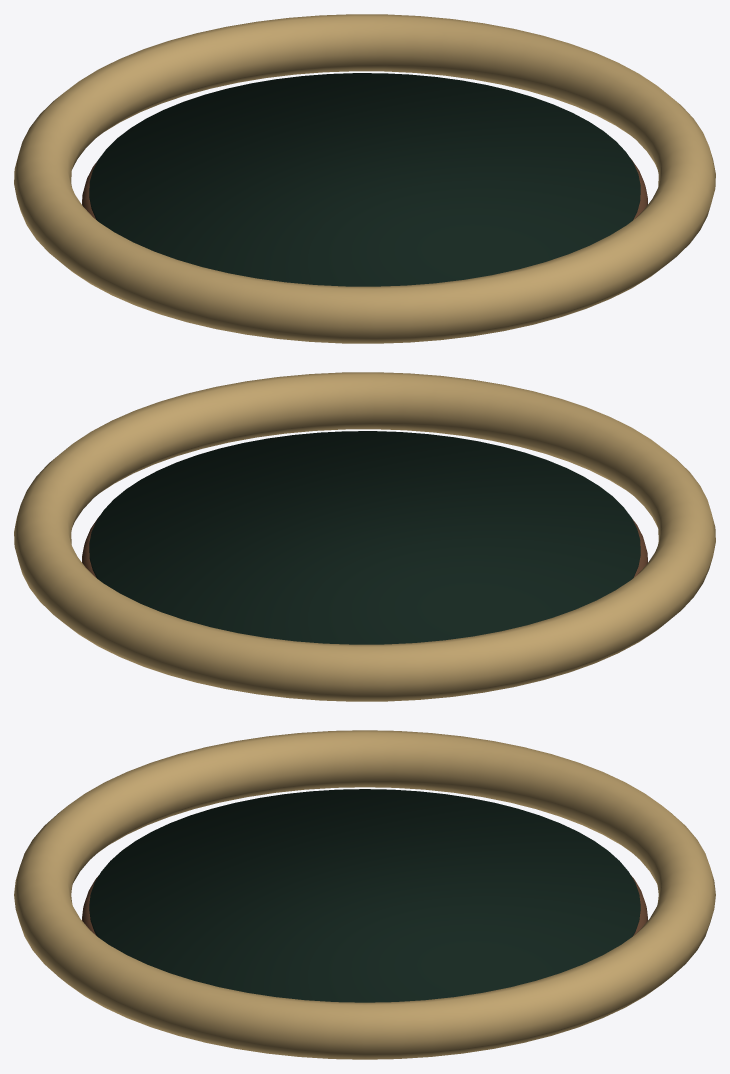
File: PP_Kit_CupRim.fbx
3 renders of one model, top to bottom at view 1: azimuth 30°, elevation 25°; view 2: azimuth 150°, elevation 25°; view 3: azimuth 270°, elevation 25°, orthographic.
Parts seen in each view (by area): view 1: KIT_CupAssembly; view 2: KIT_CupAssembly; view 3: KIT_CupAssembly.
Part boxes in pixels (x1,y1,x2,y2): KIT_CupAssembly: [14, 14, 715, 343]; KIT_CupAssembly: [14, 372, 715, 701]; KIT_CupAssembly: [14, 730, 715, 1059].
Size of the model in its own units: 66.2 by 6.3 by 66.2.
